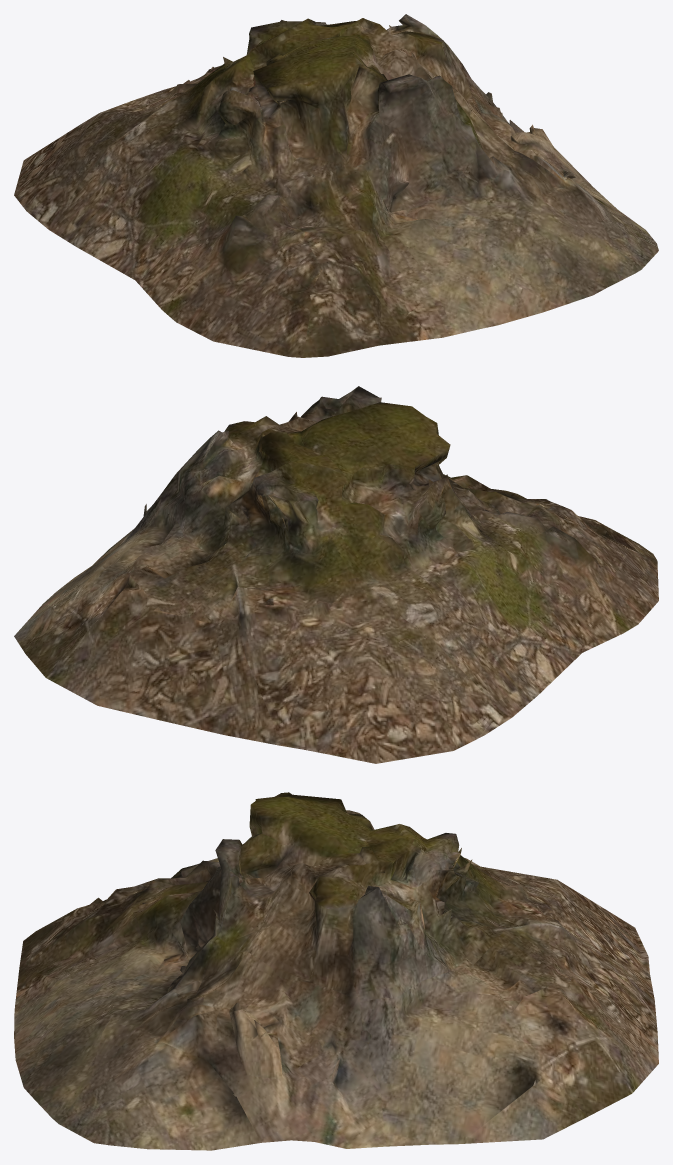
File: tree_stump_01.glb
3 renders of one model, top to bottom at view 1: azimuth 30°, elevation 25°; view 2: azimuth 150°, elevation 25°; view 3: azimuth 270°, elevation 25°, orthographic. The views are drawn at different scales.
Visible parts, largest first — view 1: tree_stump_01; view 2: tree_stump_01; view 3: tree_stump_01.
Part boxes in pixels (bbox=[...]): tree_stump_01: bbox=[14, 14, 658, 357]; tree_stump_01: bbox=[14, 386, 658, 763]; tree_stump_01: bbox=[14, 792, 658, 1150].
Size of the model in its own units: 1.43 by 0.57 by 1.59.
Materials: 1 (1 with a texture image).
